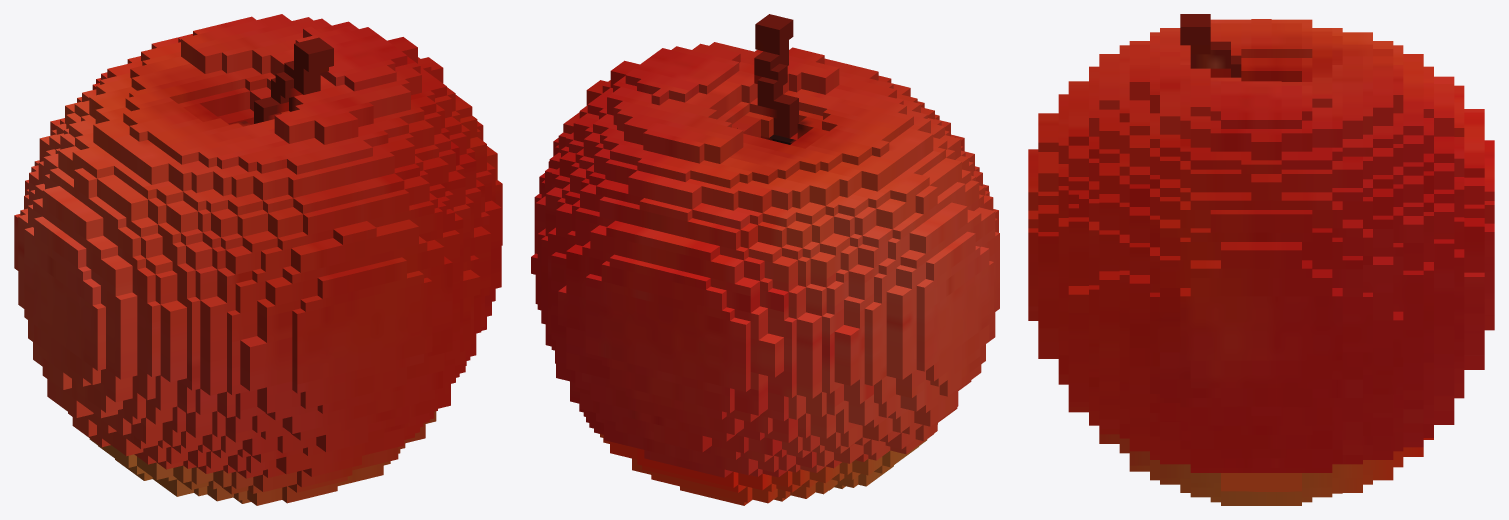
Rendered from SM_Fruits_Apple.fbx.
The picture shows the model from 3 angles, left to right: view 1: azimuth 30°, elevation 25°; view 2: azimuth 150°, elevation 25°; view 3: azimuth 270°, elevation 25°; orthographic projection. The views are drawn at different scales.
Parts seen in each view (by area): view 1: Voxelized_Voxelizer; view 2: Voxelized_Voxelizer; view 3: Voxelized_Voxelizer.
Part boxes in pixels (<box>): Voxelized_Voxelizer: <box>14,14,502,505</box>; Voxelized_Voxelizer: <box>531,14,999,505</box>; Voxelized_Voxelizer: <box>1028,14,1494,505</box>.
Size of the model in its own units: 48 by 48 by 46.
